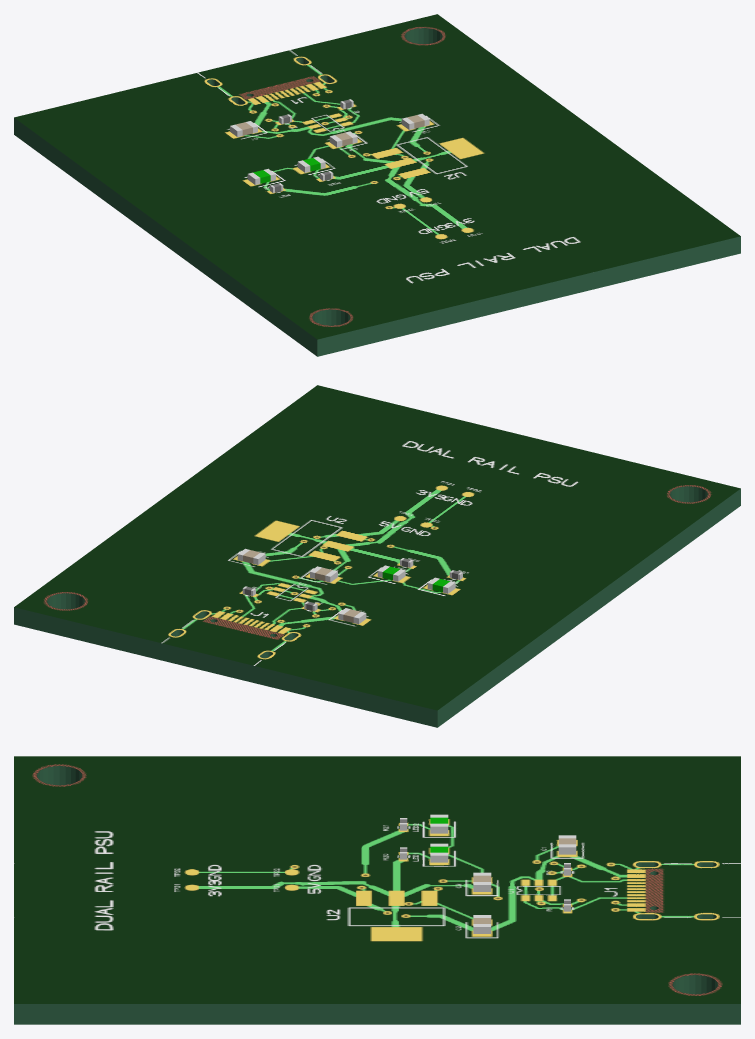
3 renders of one model, top to bottom at view 1: azimuth 30°, elevation 25°; view 2: azimuth 150°, elevation 25°; view 3: azimuth 270°, elevation 25°, orthographic. The views are drawn at different scales.
Parts seen in each view (by area): view 1: Box0; view 2: Box0; view 3: Box0.
Boxes of the visible parts, x1=… form: Box0: x1=14, y1=14, x2=740, y2=356; Box0: x1=14, y1=385, x2=740, y2=727; Box0: x1=14, y1=756, x2=740, y2=1024.
Size of the model in its own units: 41.1 by 2.15 by 51.
7 materials, 2 textured.
